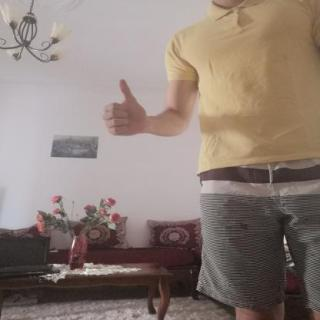ALIF: (91, 68, 157, 142)
